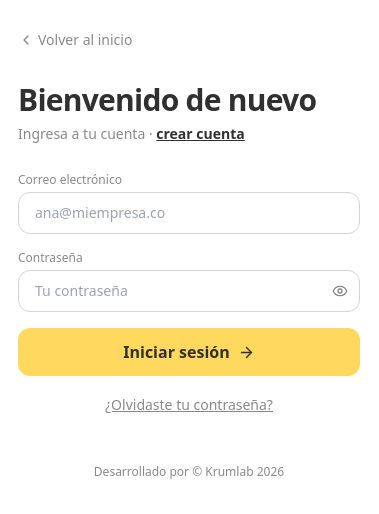
Test: Login › un fallo sin forma reconocible sigue teniendo su mensaje de siempre
Type "ana@empresa.co" into the field labelled "Correo electrónico" at (189, 213), box [18, 192, 360, 234]
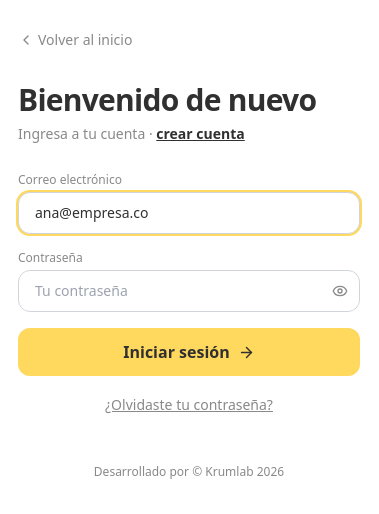
Type "lo-que-sea" into the password field labelled "Contraseña" at (189, 291), box [18, 270, 360, 312]
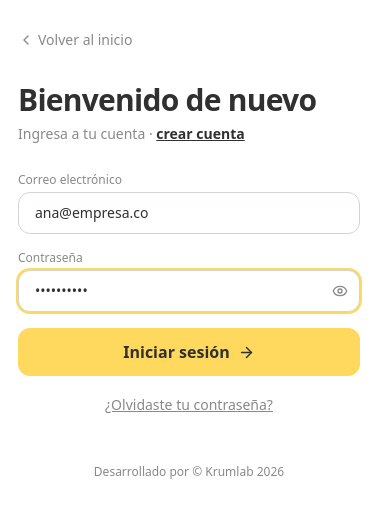
Click the button "Iniciar sesión" at (189, 352), box [18, 328, 360, 376]
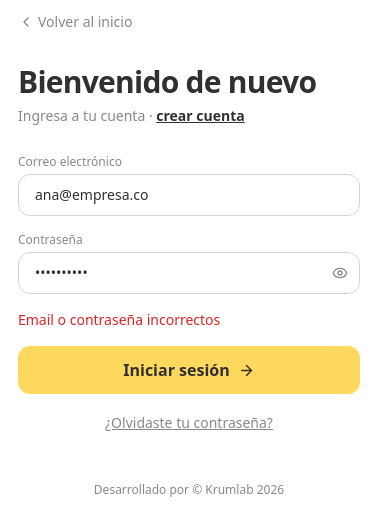
Check: the text "Email o contraseña incorrectos" is shown, box [18, 310, 220, 329]
